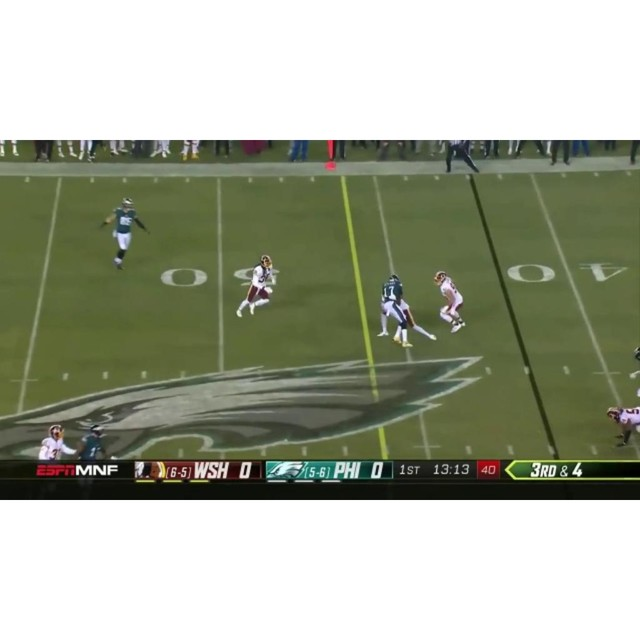american-football-player: (100, 197, 149, 272), (235, 254, 277, 319), (377, 275, 414, 344), (433, 271, 466, 334), (37, 424, 78, 460), (606, 405, 639, 447), (78, 423, 108, 460)
